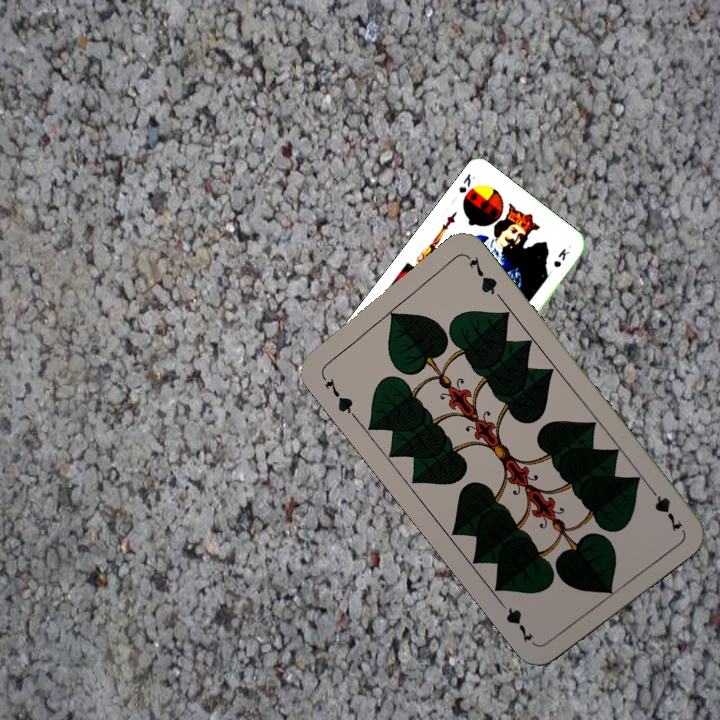G7: (643, 481, 685, 535), (317, 369, 358, 420)
SK: (454, 169, 477, 196)
